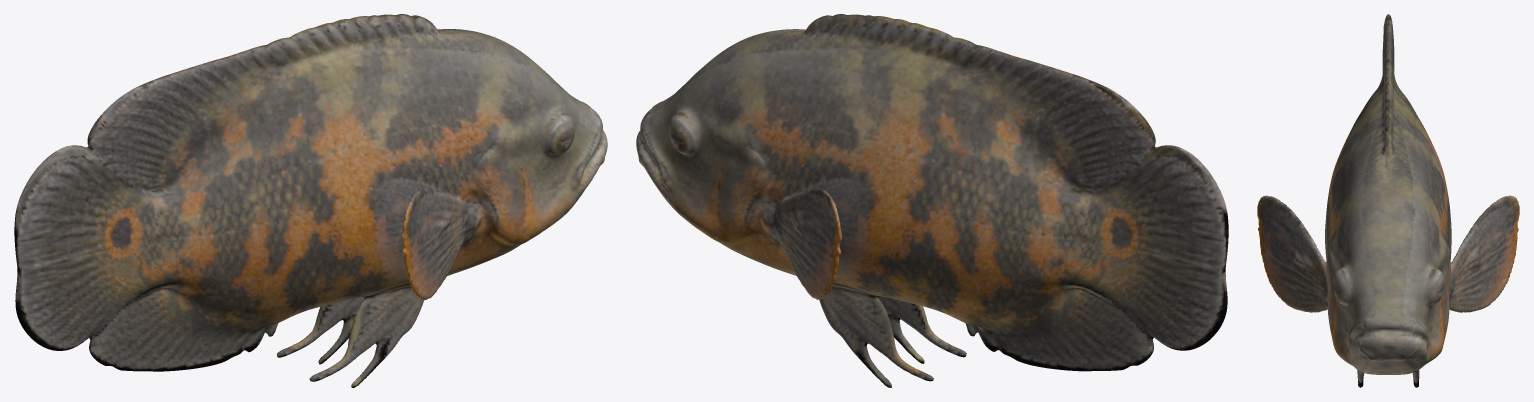
The model's file is oscar-hy2mv.glb.
3 views of the same model, side by side, from view 1: azimuth 30°, elevation 25°; view 2: azimuth 150°, elevation 25°; view 3: azimuth 270°, elevation 25° (orthographic). The views are drawn at different scales.
Visible parts, largest first — view 1: geometry_0; view 2: geometry_0; view 3: geometry_0.
Boxes of the visible parts, x1,y1,x2,y2 form: geometry_0: [14, 14, 607, 387]; geometry_0: [636, 14, 1228, 387]; geometry_0: [1257, 14, 1519, 387].
Bounding box in the file's own units: 1 × 0.5797 × 0.4545.
